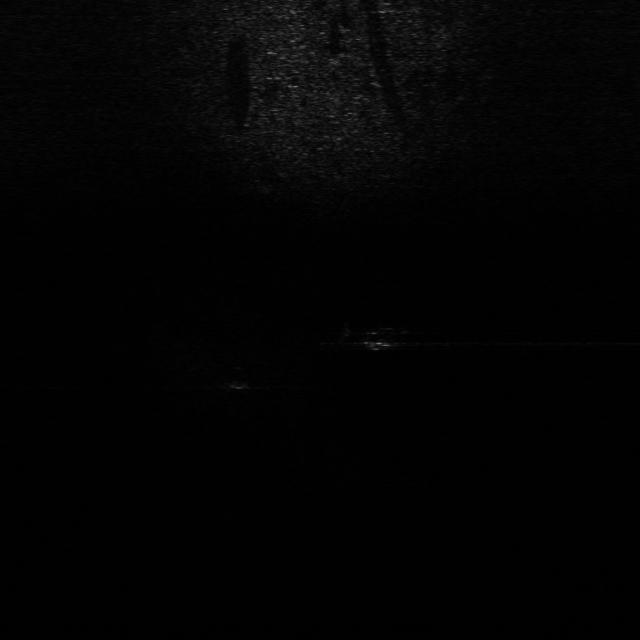ball: (218, 357, 256, 394)
human body: (331, 318, 438, 358)
